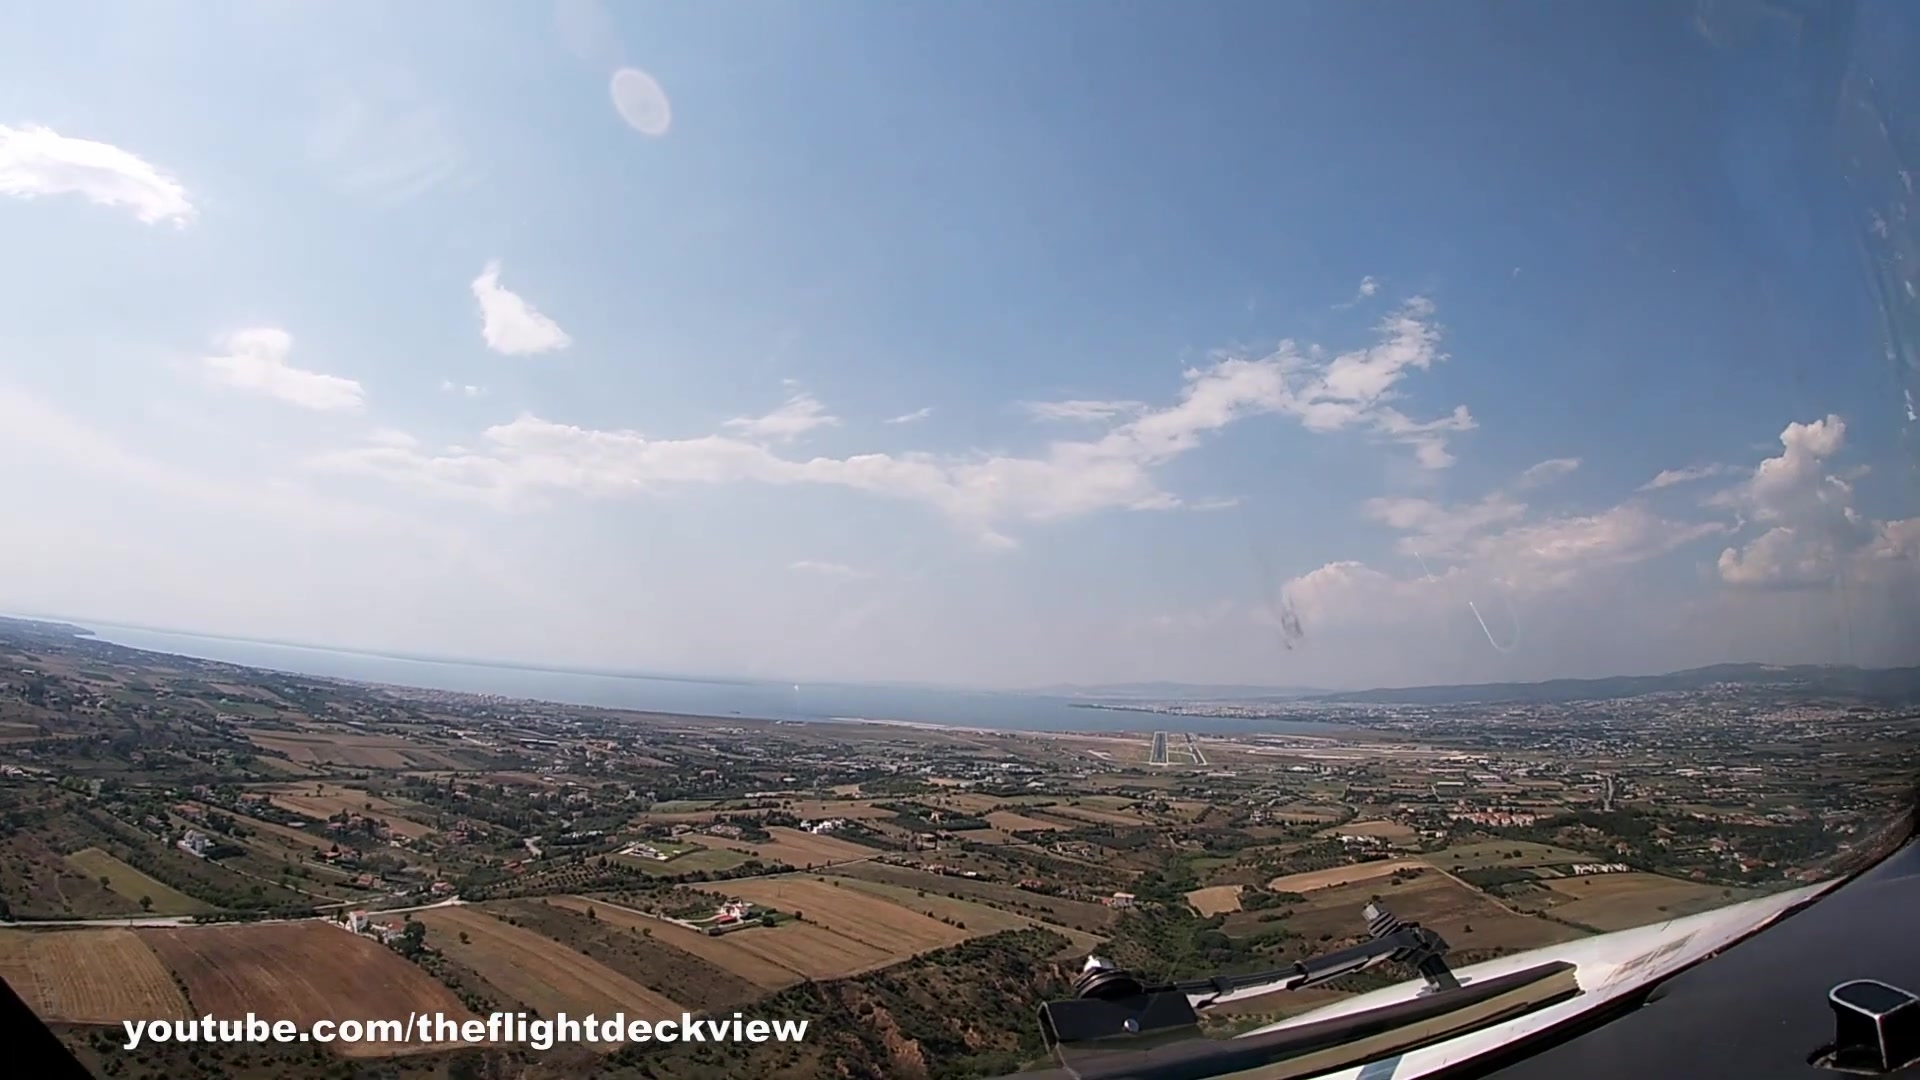runway: (1145, 729, 1174, 767)
